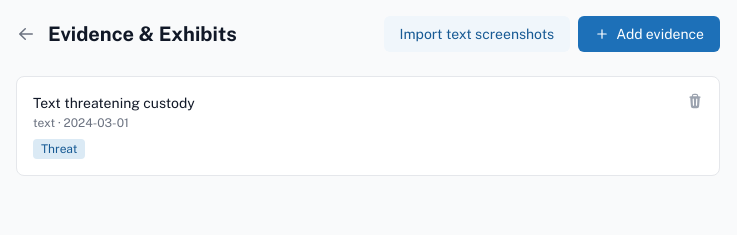
Test: Evidence deletion › confirming deletes the item
The width and height of the screenshot is (737, 235).
Expected: the text "Text threatening custody" is shown, [33,95,195,111]
Click the button named "remove evidence" at (695, 101), box [687,93,703,109]
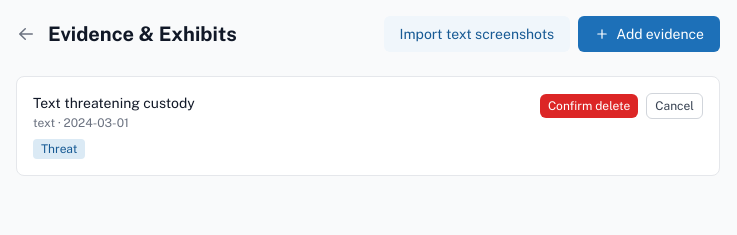
Click the button "Confirm delete" at (589, 106), box [540,94,638,118]
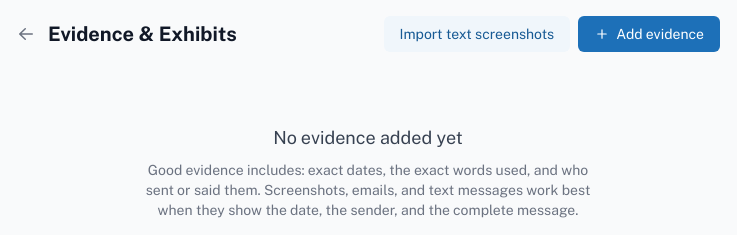
Expected: the text "Text threatening custody" is gone
